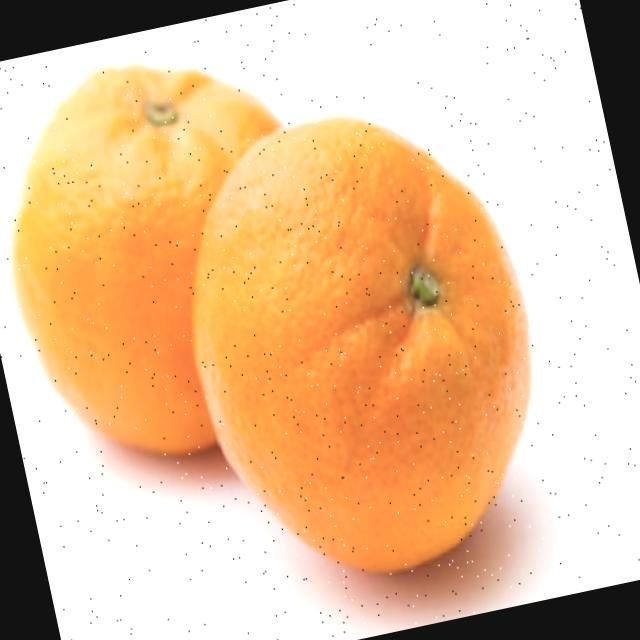orange: (151, 72, 588, 604), (0, 34, 338, 491)
